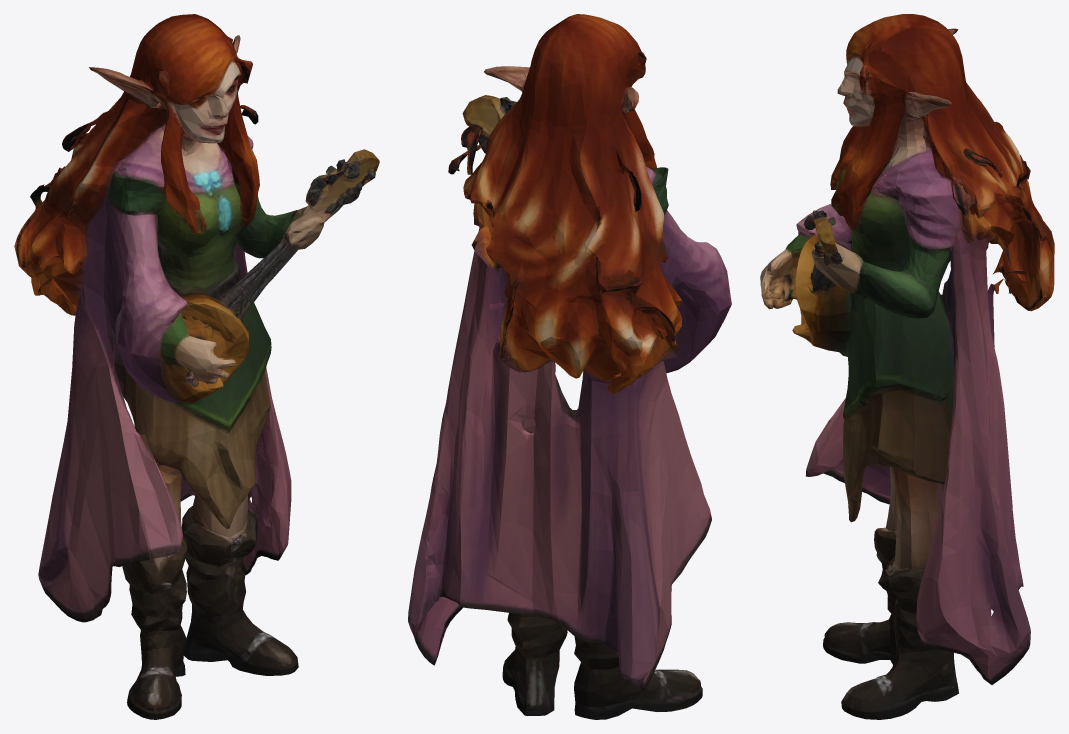
Rendered from katy.glb.
3 views of the same model, side by side, from view 1: azimuth 30°, elevation 25°; view 2: azimuth 150°, elevation 25°; view 3: azimuth 270°, elevation 25° (orthographic). The views are drawn at different scales.
Parts seen in each view (by area): view 1: geometry_0; view 2: geometry_0; view 3: geometry_0.
Boxes of the visible parts, <box> form: geometry_0: <box>14,14,379,719</box>; geometry_0: <box>408,14,731,719</box>; geometry_0: <box>760,14,1054,719</box>.
Size of the model in its own units: 0.451 by 0.9999 by 0.4032.
Materials: 1 (1 with a texture image).
